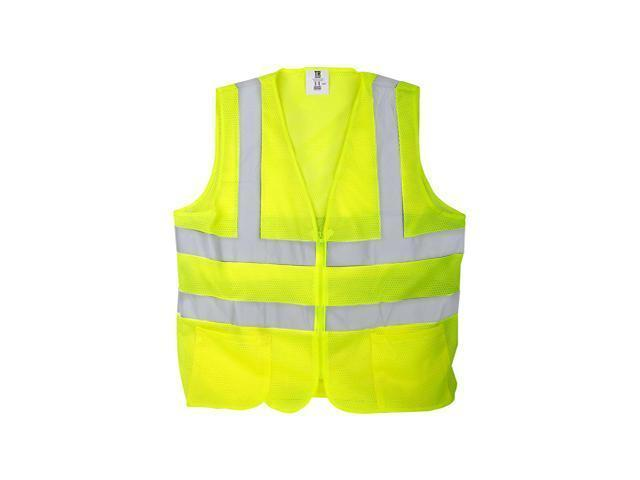Glass: (166, 55, 478, 412)
